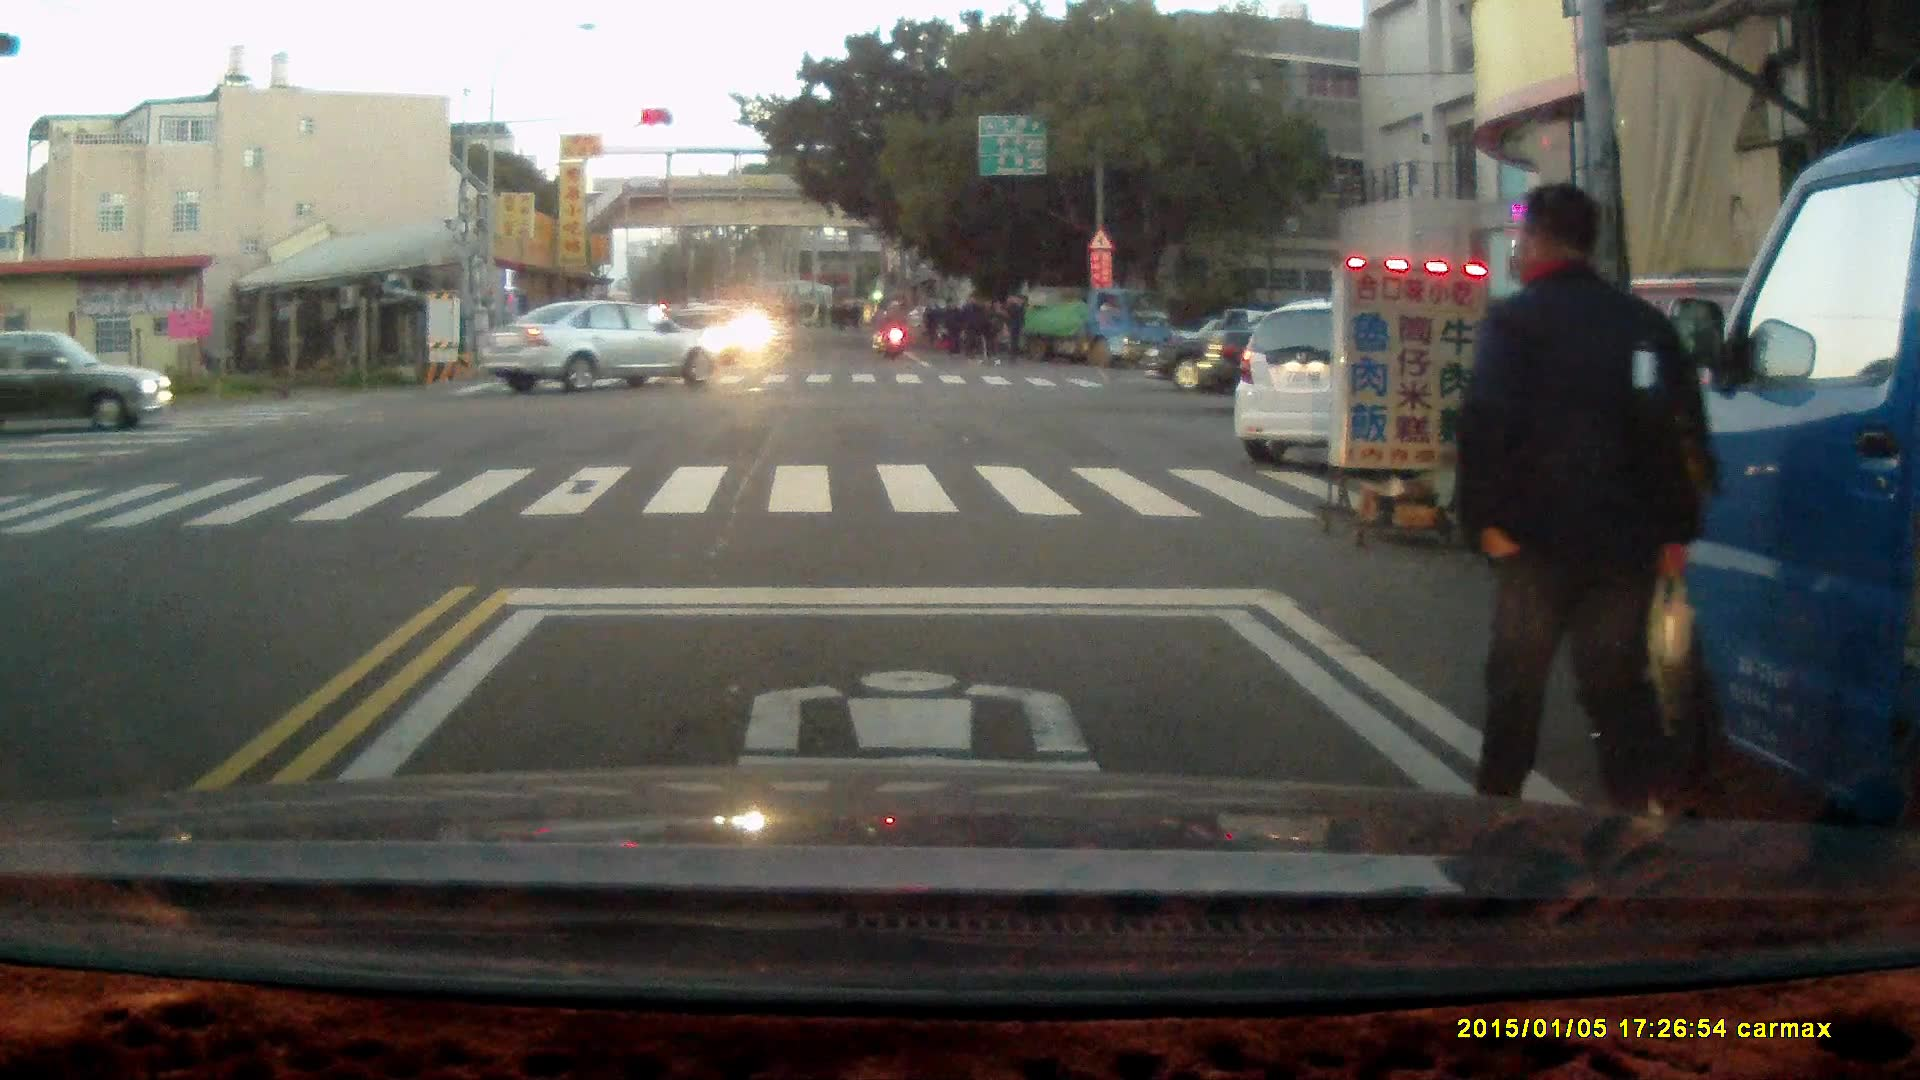pedestrian: (1450, 181, 1718, 856), (998, 292, 1027, 370), (959, 290, 987, 367)
rider: (876, 297, 906, 359)
vehicle: (1598, 132, 1920, 846), (1233, 296, 1533, 459), (485, 300, 731, 397), (1, 330, 176, 438), (1002, 284, 1179, 367)
